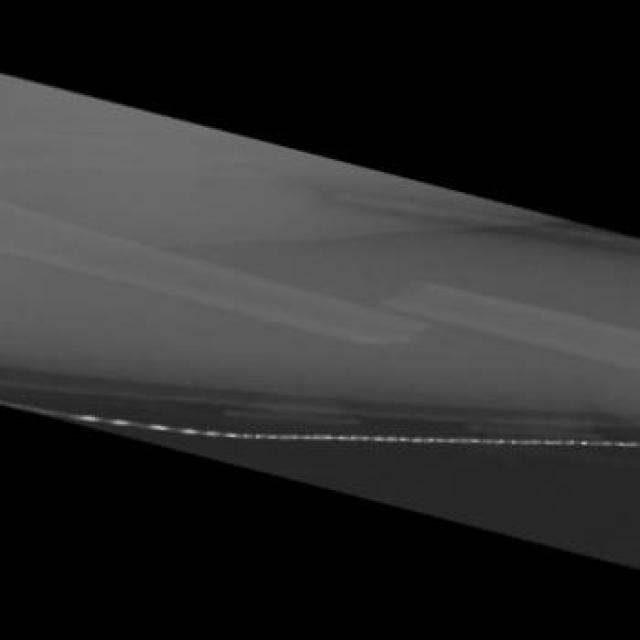Fracture: (348, 272, 468, 366)
